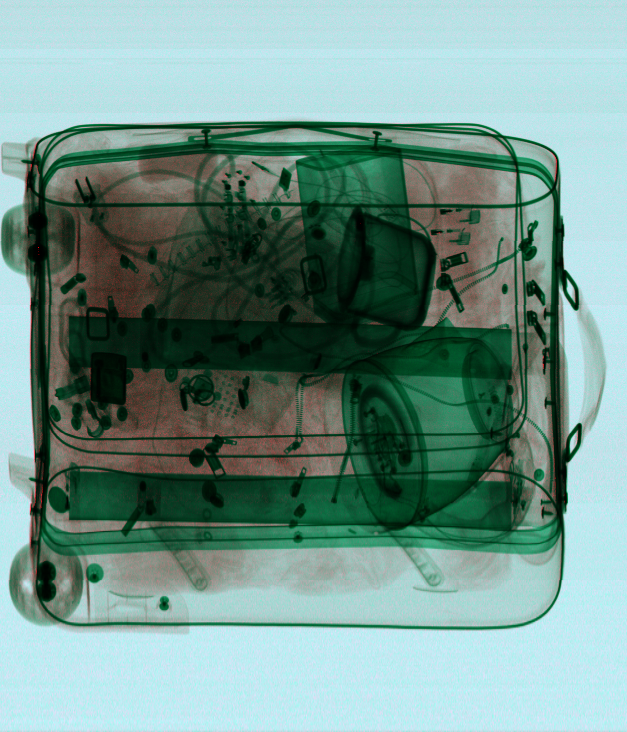Glass Bottle: (341, 338, 513, 530), (336, 206, 437, 332)
